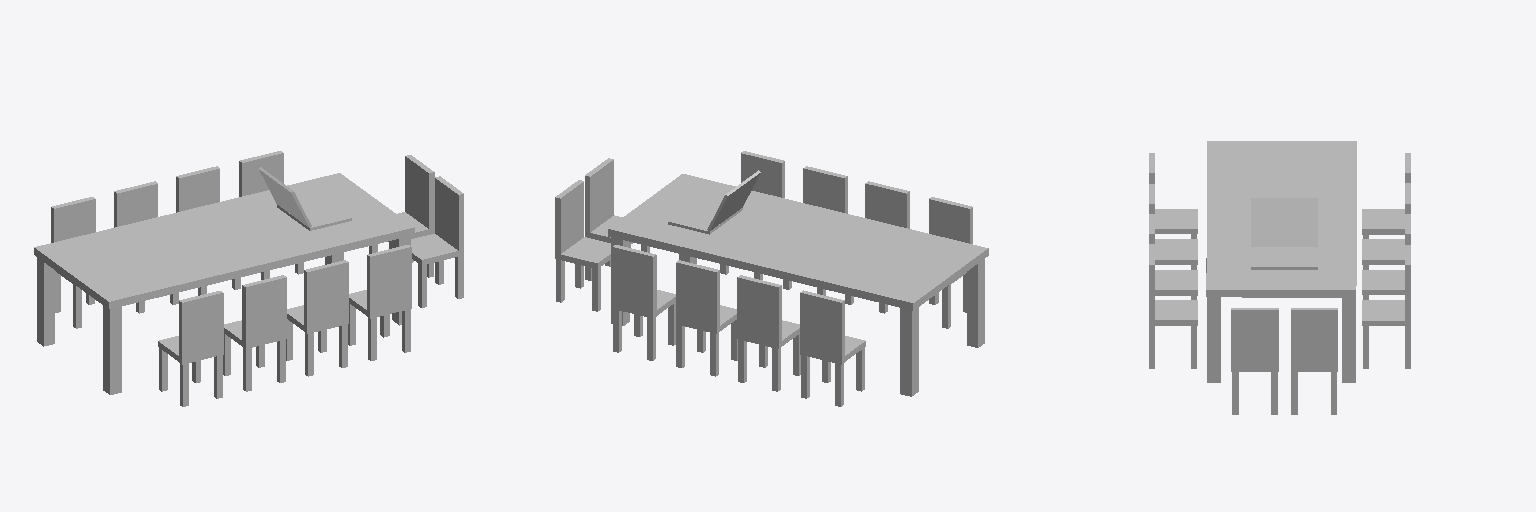
The model's file is 會議模式.obj.
3 views of the same model, side by side, from view 1: azimuth 30°, elevation 25°; view 2: azimuth 150°, elevation 25°; view 3: azimuth 270°, elevation 25° (orthographic).
Parts seen in each view (by area): view 1: 立方體, 立方體.041_立方體.048, 立方體.042_立方體.049, 立方體.052_立方體.059, 立方體.051_立方體.058, 立方體.006, 立方體.014_立方體.015, 立方體.032_立方體.038, 立方體.004, 立方體.022_立方體.026, 立方體.031_立方體.036, 立方體.003 (+4 smaller); view 2: 立方體, 立方體.021_立方體.024, 立方體.032_立方體.038, 立方體.031_立方體.036, 立方體.022_立方體.026, 立方體.006, 立方體.014_立方體.015, 立方體.042_立方體.049, 立方體.051_立方體.058, 立方體.052_立方體.059, 立方體.003, 立方體.041_立方體.048 (+4 smaller); view 3: 立方體, 立方體.016_立方體.018, 立方體.014_立方體.015, 立方體.006, 立方體.015_立方體.017, 立方體.001, 立方體.002, 椅子.006_立方體.064, 椅子.002_立方體.025, 椅子.004_立方體.037, 椅子.005_立方體.043, 椅子.007_立方體.065 (+3 smaller).
Boxes of the visible parts, x1,y1,x2,y2 form: 立方體: [34, 173, 414, 308]; 立方體.041_立方體.048: [367, 245, 411, 318]; 立方體.042_立方體.049: [304, 260, 348, 333]; 立方體.052_立方體.059: [179, 291, 223, 364]; 立方體.051_立方體.058: [242, 275, 286, 348]; 立方體.006: [405, 155, 434, 234]; 立方體.014_立方體.015: [435, 176, 463, 256]; 立方體.032_立方體.038: [51, 197, 95, 242]; 立方體.004: [103, 306, 121, 394]; 立方體.022_立方體.026: [176, 166, 219, 212]; 立方體.031_立方體.036: [114, 181, 157, 227]; 立方體.003: [37, 258, 54, 346]; 立方體: [608, 174, 988, 310]; 立方體.021_立方體.024: [612, 245, 656, 318]; 立方體.032_立方體.038: [800, 290, 844, 364]; 立方體.031_立方體.036: [737, 275, 781, 348]; 立方體.022_立方體.026: [676, 260, 719, 333]; 立方體.006: [555, 180, 583, 259]; 立方體.014_立方體.015: [585, 158, 613, 237]; 立方體.042_立方體.049: [803, 166, 847, 213]; 立方體.051_立方體.058: [865, 181, 909, 228]; 立方體.052_立方體.059: [929, 197, 972, 243]; 立方體.003: [900, 307, 918, 396]; 立方體.041_立方體.048: [741, 151, 784, 197]; 立方體: [1206, 141, 1356, 297]; 立方體.016_立方體.018: [1251, 198, 1317, 246]; 立方體.014_立方體.015: [1231, 308, 1278, 371]; 立方體.006: [1291, 308, 1337, 371]; 立方體.015_立方體.017: [1251, 247, 1317, 269]; 立方體.001: [1207, 297, 1220, 382]; 立方體.002: [1342, 298, 1355, 382]; 椅子.006_立方體.064: [1154, 300, 1197, 325]; 椅子.002_立方體.025: [1362, 300, 1405, 325]; 椅子.004_立方體.037: [1362, 239, 1404, 264]; 椅子.005_立方體.043: [1362, 209, 1404, 234]; 椅子.007_立方體.065: [1155, 270, 1197, 295].
Size of the model in its own units: 13.31 by 4.8 by 8.24.